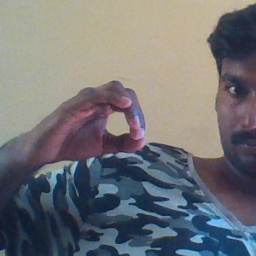O: (28, 73, 148, 172)
